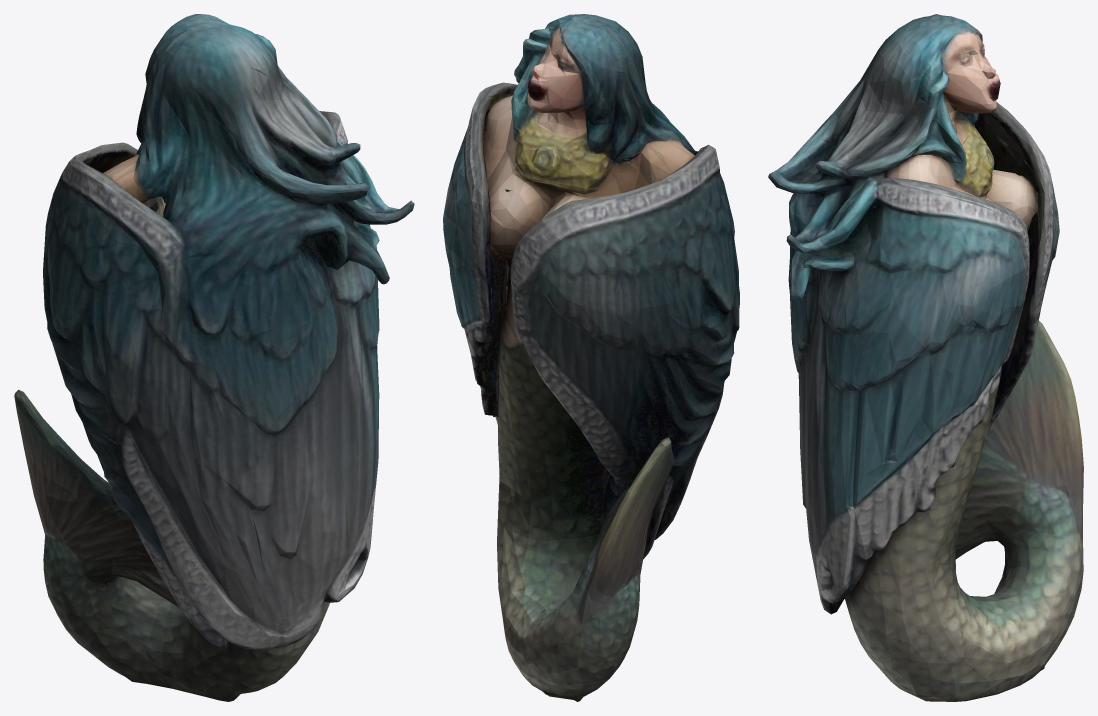
Rendered from riverSiren.glb.
3 renders of one model, left to right at view 1: azimuth 30°, elevation 25°; view 2: azimuth 150°, elevation 25°; view 3: azimuth 270°, elevation 25°, orthographic. The views are drawn at different scales.
Parts seen in each view (by area): view 1: world; view 2: world; view 3: world.
Part boxes in pixels (x1=…): world: x1=14, y1=14, x2=414, y2=701; world: x1=443, y1=14, x2=739, y2=701; world: x1=768, y1=14, x2=1083, y2=701.
Bounding box in the file's own units: 0.4608 × 0.9984 × 0.4332.
1 material, 1 textured.
